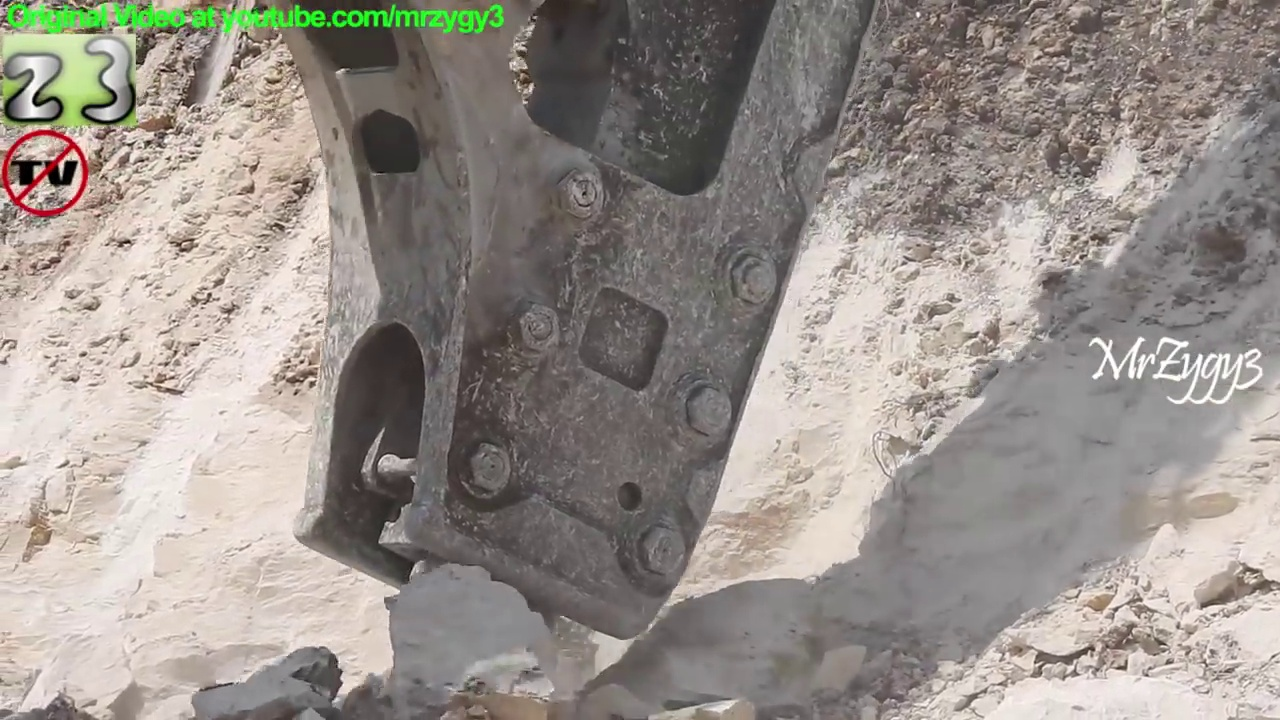excavator: (264, 1, 879, 720)
